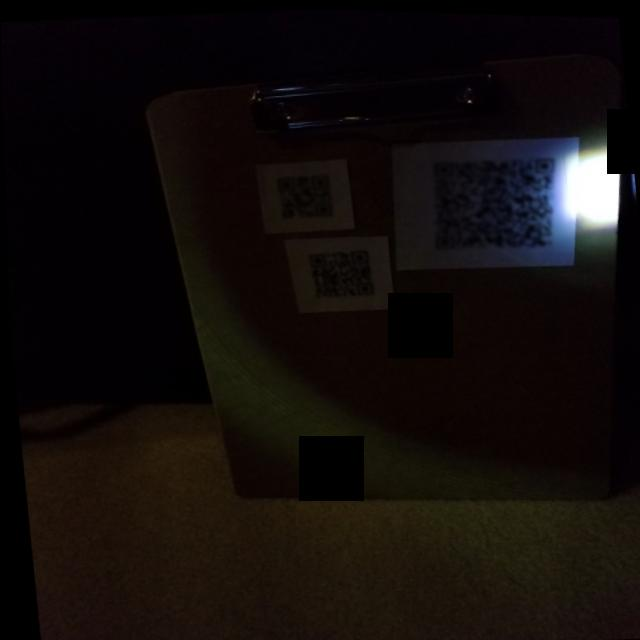QR_CODE: (412, 138, 572, 257), (295, 236, 385, 309), (262, 159, 344, 226)
